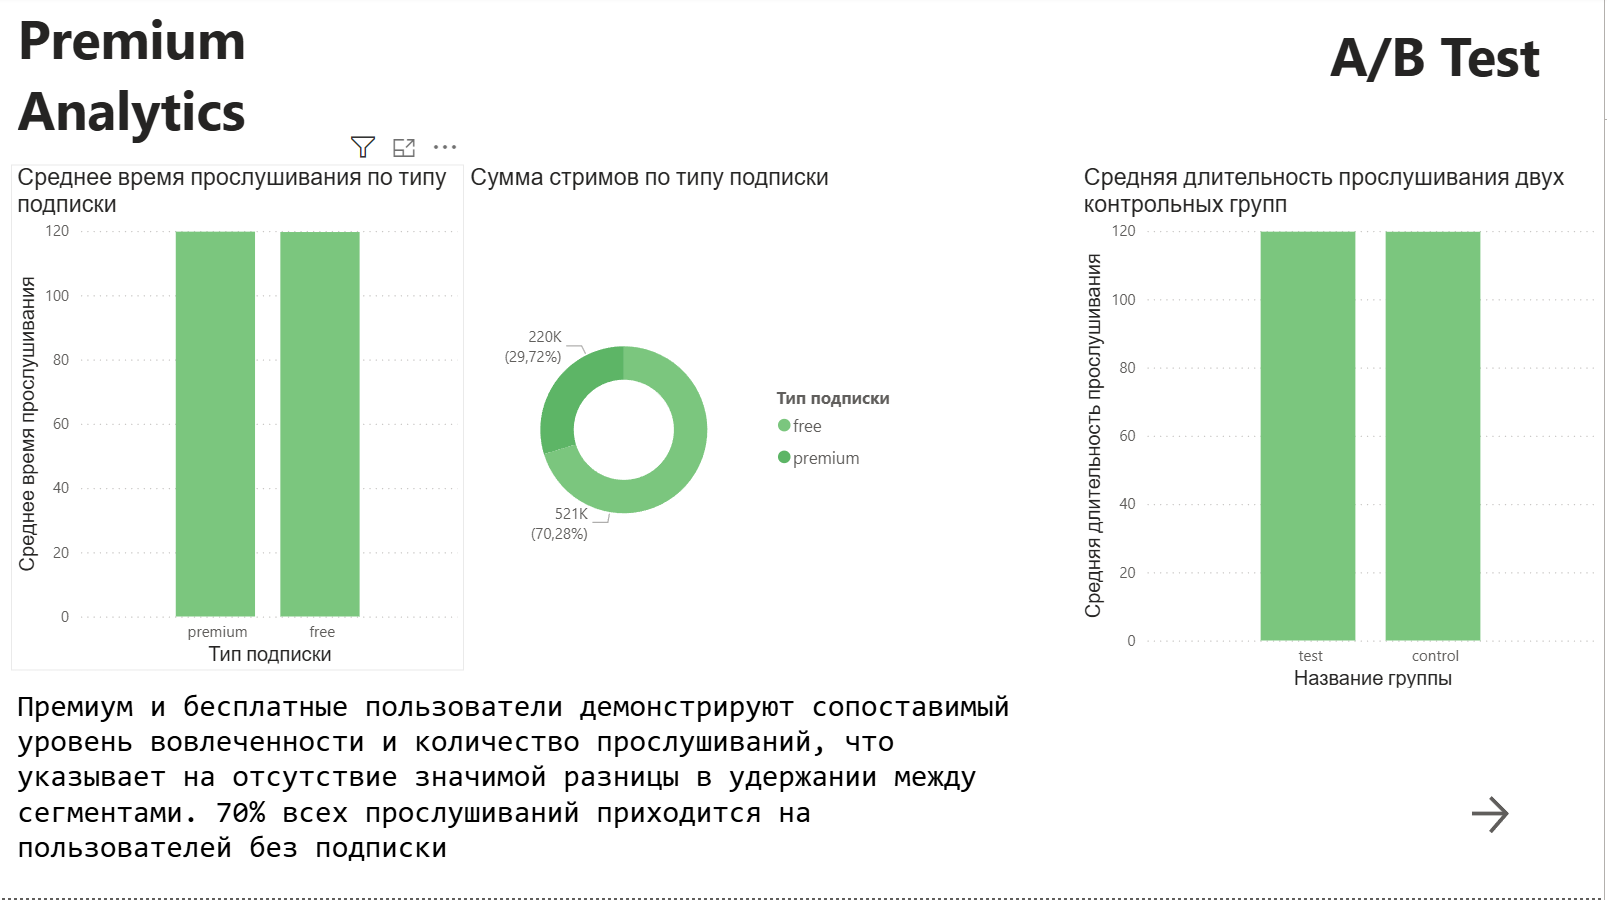

Layout of this report page (visuals, bound fields, positions):
{"tool":"powerbi","page":{"name":"Premium Analytics, A/B test","canvas":[1280,720],"ordinal":2},"visuals":[{"type":"textbox","box":[9.6,0,361.3,190.2],"z":0},{"type":"clusteredColumnChart","title":"Среднее время прослушивания по типу подписки","fields":{"Category":["segments.subscription_type"],"Y":["Avg(segments.avg_duration)"]},"box":[9.6,135.2,361.3,403.1],"z":1000},{"type":"textbox","box":[9.6,547.9,808.7,172.3],"z":2000},{"type":"donutChart","title":"Сумма стримов по типу подписки","fields":{"Category":["segments.subscription_type"],"Y":["Sum(segments.total_streams)"]},"box":[370.8,135.2,361.3,403.1],"z":3000},{"type":"textbox","box":[1056.3,13.2,223.7,82.5],"z":4000},{"type":"columnChart","title":"Средняя длительность прослушивания двух контрольных групп","fields":{"Category":["ab_test.group_name"],"Y":["Avg(ab_test.listen_duration)"]},"box":[860.1,135.2,419.9,422.3],"z":5000},{"type":"actionButton","box":[1168.7,634,100.5,39.5],"z":6000}]}

Visuals, with their boxes in screenshot pixels (x1, y1, x2, y2), scaled from the page's 1280x720 canvas onto the 1607x900 screenshot:
textbox: bbox=(12, 0, 466, 238)
"Среднее время прослушивания по типу подписки" clusteredColumnChart: bbox=(12, 169, 466, 673)
textbox: bbox=(12, 685, 1027, 899)
"Сумма стримов по типу подписки" donutChart: bbox=(466, 169, 919, 673)
textbox: bbox=(1326, 16, 1606, 120)
"Средняя длительность прослушивания двух контрольных групп" columnChart: bbox=(1080, 169, 1606, 697)
actionButton: bbox=(1467, 792, 1593, 842)
